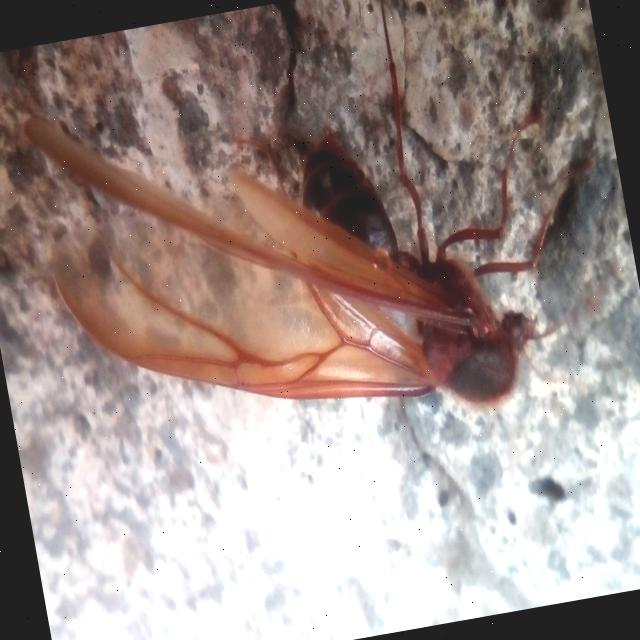Alive-Male-Alate: (9, 0, 635, 484)
